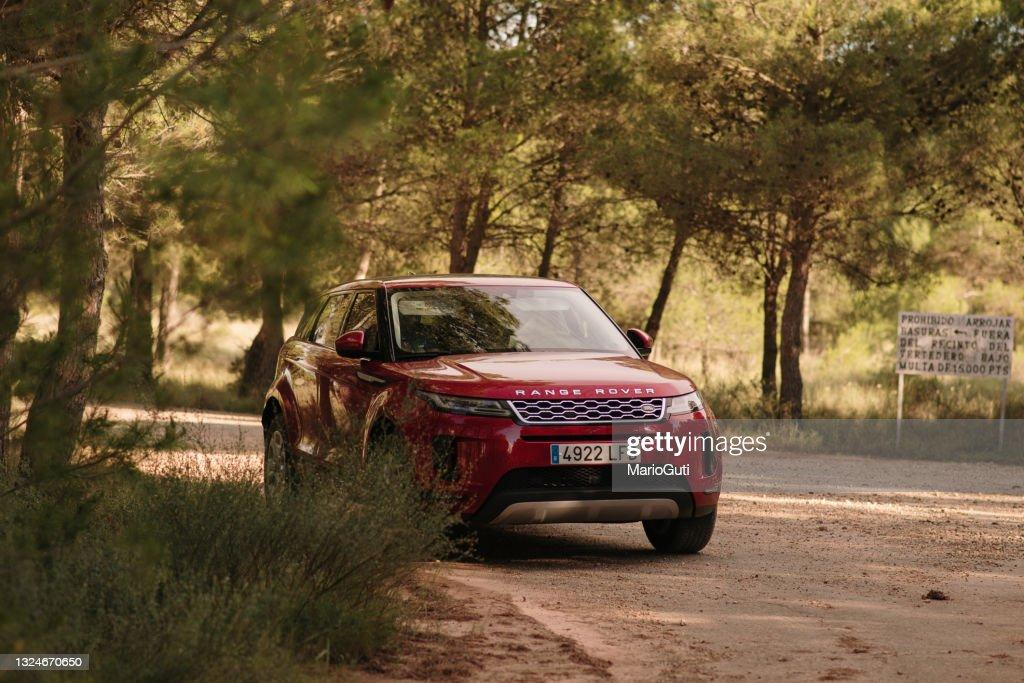range rover: (509, 380, 665, 405)
